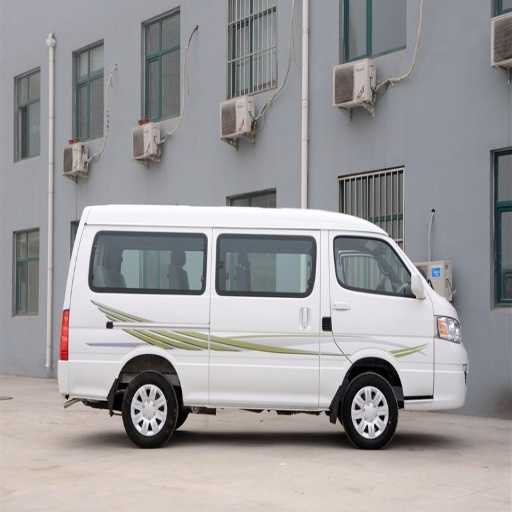back_right_door: (96, 233, 205, 291), (330, 231, 405, 298)
trunk: (315, 329, 454, 402), (78, 341, 137, 399)
